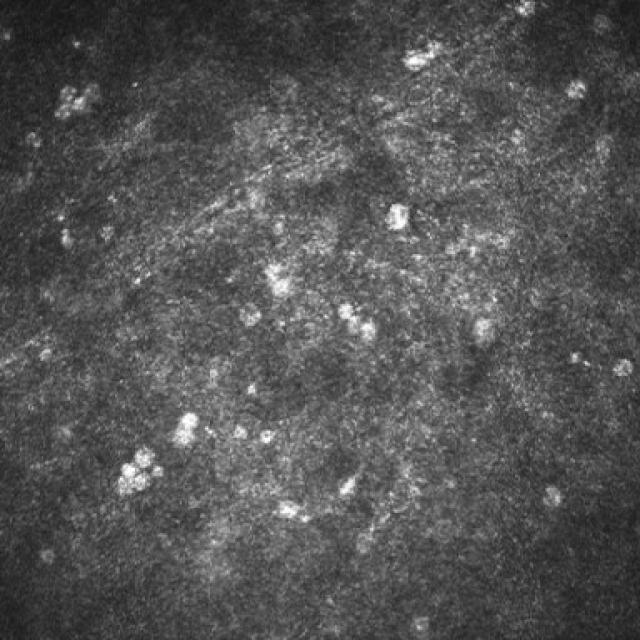anomalie: (399, 37, 446, 75), (162, 423, 199, 454), (469, 314, 499, 352), (382, 200, 413, 234), (267, 273, 298, 304), (407, 613, 441, 640), (270, 496, 305, 520), (334, 470, 362, 500), (237, 300, 263, 330), (356, 316, 380, 348), (540, 482, 564, 512), (132, 444, 158, 471), (562, 77, 590, 102), (263, 259, 291, 283), (113, 474, 135, 502), (346, 311, 367, 339), (611, 356, 635, 380), (69, 94, 93, 118), (80, 80, 104, 104), (129, 470, 153, 493), (22, 128, 46, 151), (58, 225, 79, 251), (177, 409, 200, 432), (98, 220, 118, 246), (53, 99, 73, 124), (40, 544, 61, 567), (511, 0, 536, 18), (256, 425, 278, 445), (336, 301, 356, 323), (58, 83, 78, 104), (231, 420, 249, 443), (242, 380, 262, 400), (119, 461, 138, 481), (568, 348, 587, 368), (149, 464, 167, 479)
